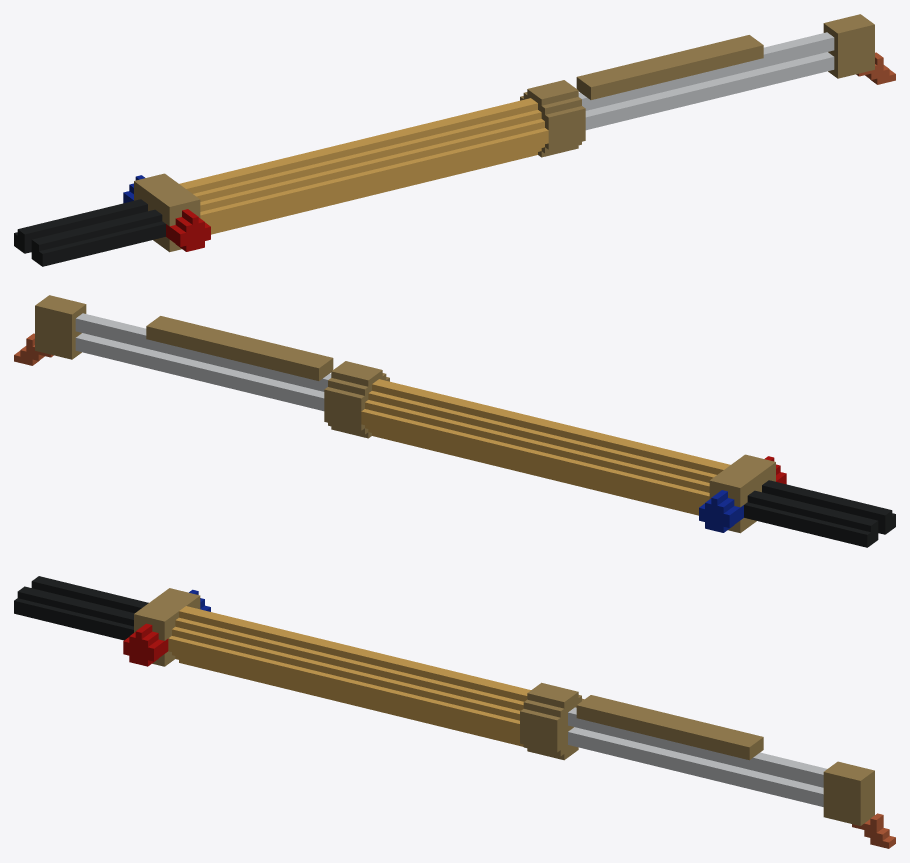
The model's file is oxy_torch.glb.
3 views of the same model, one above another, from view 1: azimuth 30°, elevation 25°; view 2: azimuth 150°, elevation 25°; view 3: azimuth 330°, elevation 25° (orthographic).
Visible parts, largest first — view 1: oxy_torch:compound; view 2: oxy_torch:compound; view 3: oxy_torch:compound.
Boxes of the visible parts, x1,y1,x2,y2 form: oxy_torch:compound: (14, 14, 895, 266); oxy_torch:compound: (14, 295, 895, 547); oxy_torch:compound: (14, 576, 895, 848).
Size of the model in its own units: 0.56 by 0.044 by 0.064.
